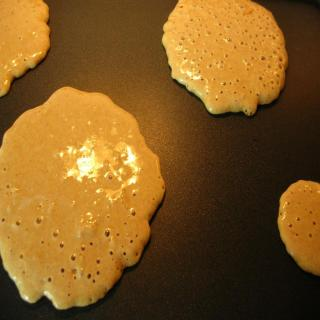Cookie: (0, 84, 167, 310), (161, 0, 289, 120), (0, 0, 51, 95), (278, 173, 320, 279)
Pancake: (0, 89, 166, 308), (162, 0, 289, 117)
